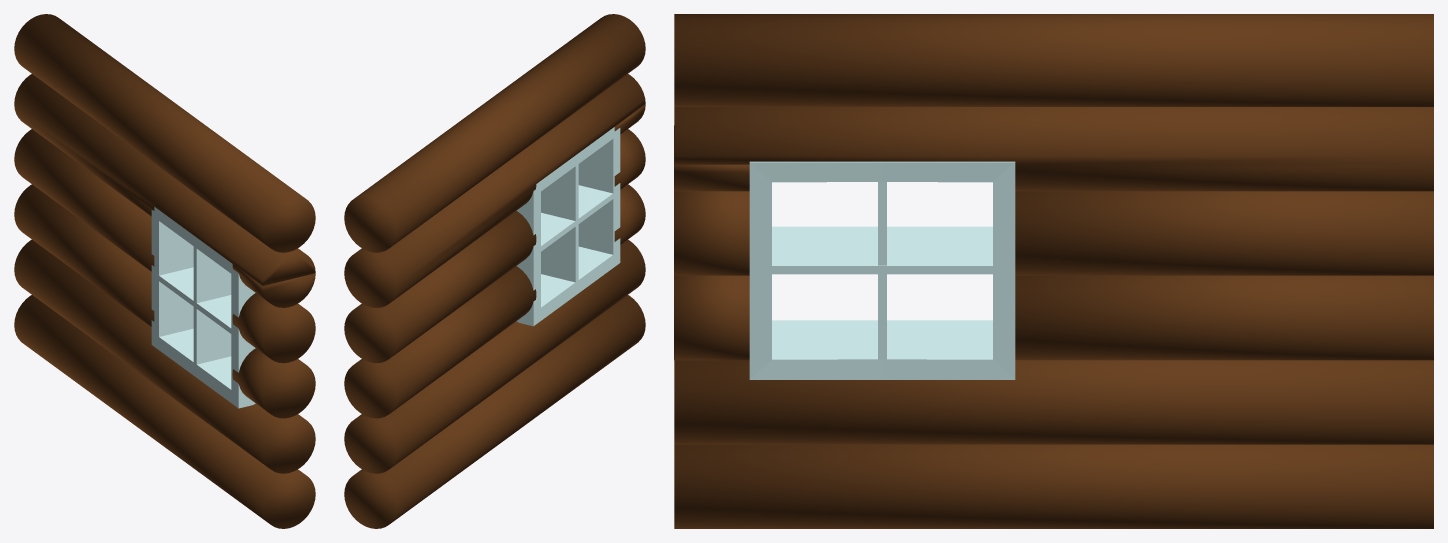
File: Background_window.fbx
3 renders of one model, left to right at view 1: azimuth 30°, elevation 25°; view 2: azimuth 150°, elevation 25°; view 3: azimuth 270°, elevation 25°, orthographic. The views are drawn at different scales.
Parts seen in each view (by area): view 1: Cube.005; view 2: Cube.005; view 3: Cube.005.
Part boxes in pixels (x1,y1,x2,y2): Cube.005: (14,14,315,528); Cube.005: (344,14,645,528); Cube.005: (674,14,1433,528).
Size of the model in its own units: 2.02 by 12 by 16.32.
